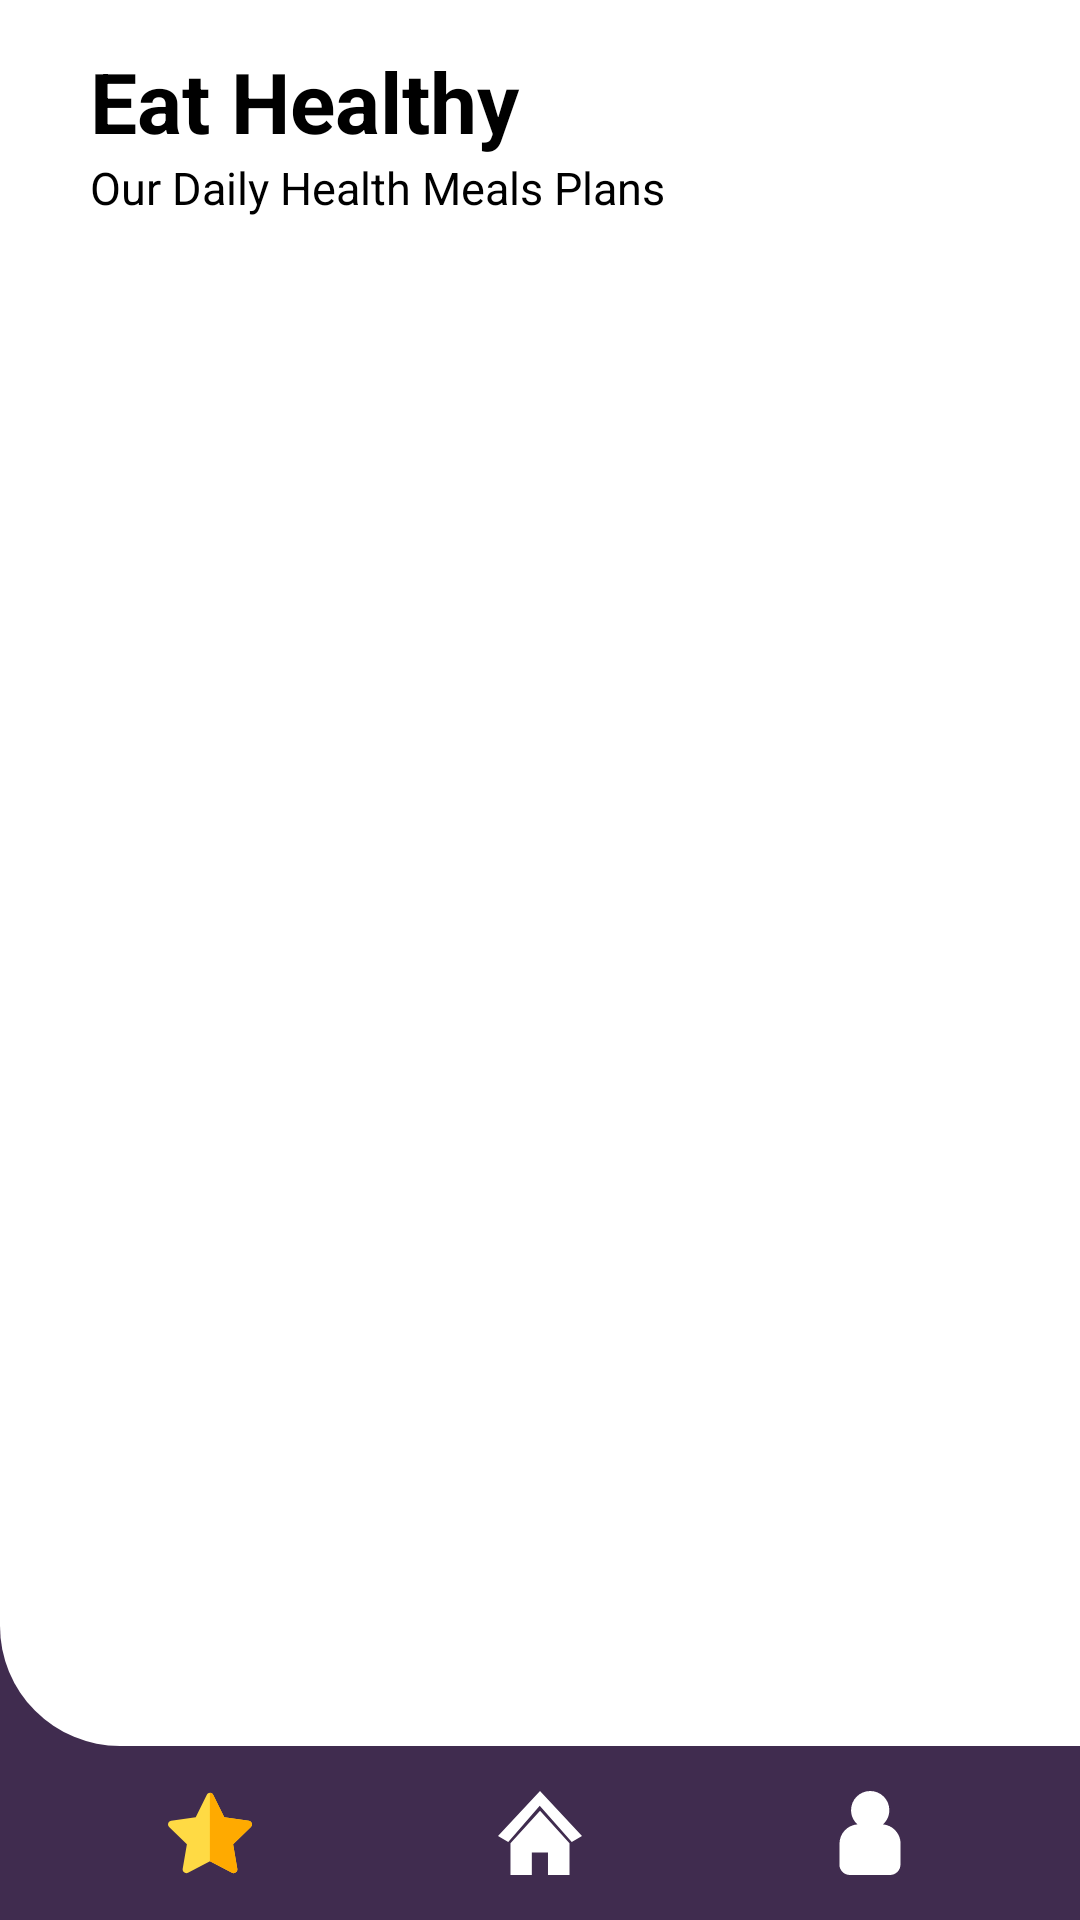

Point at icon controls on the screen. Image size 1080x1920, points as point (x, y).
favorite: point (210, 1833)
home: point (540, 1833)
profile: point (870, 1833)
